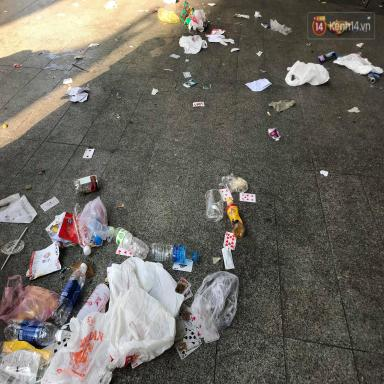plasticbag: (3, 254, 185, 384), (183, 264, 242, 341), (79, 194, 110, 243), (284, 57, 331, 85), (51, 210, 84, 245), (332, 50, 382, 73), (184, 2, 211, 34), (203, 188, 226, 224), (178, 33, 208, 60), (204, 27, 236, 51), (265, 14, 295, 36), (157, 4, 180, 27)
